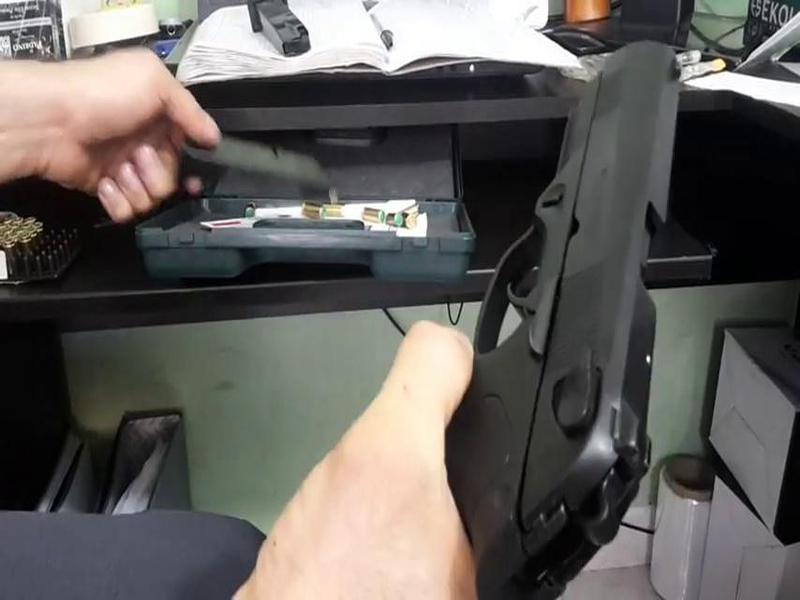Pistola: (392, 38, 694, 600)
